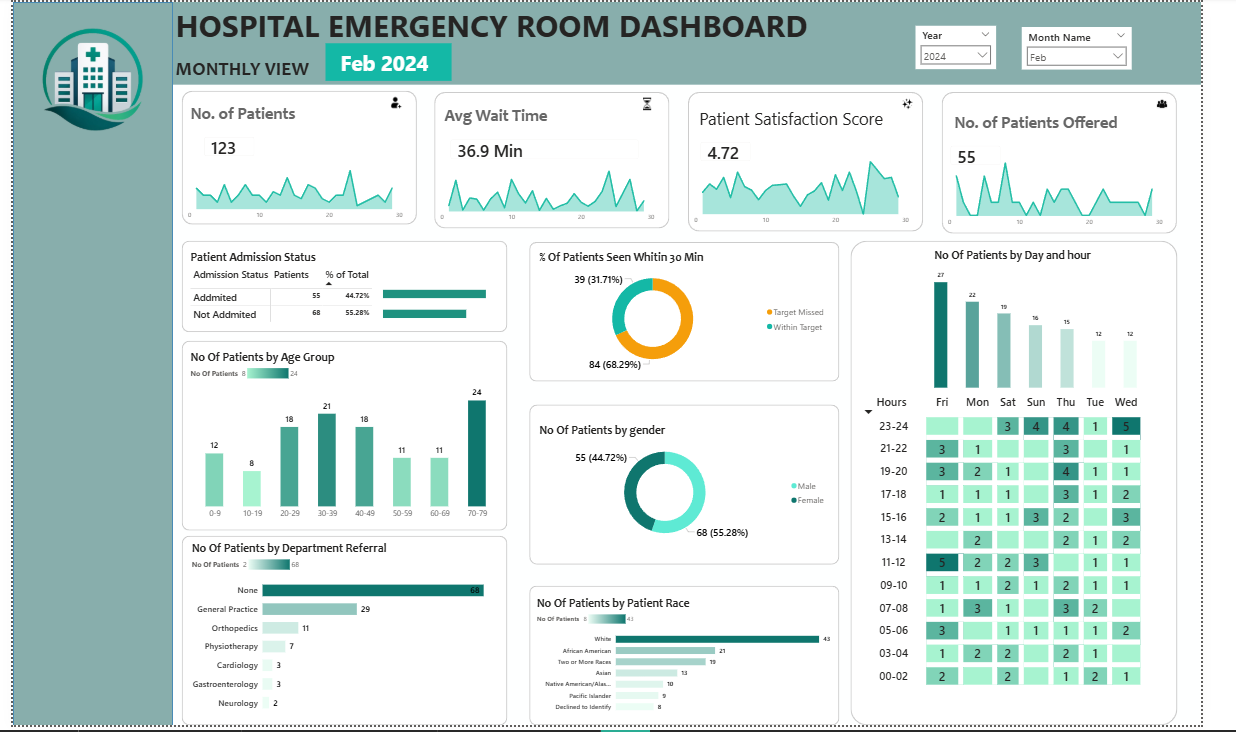

What the dashboard file says about the page in this screenshot:
{"tool":"powerbi","page":{"name":"MONTHLY VIEW","canvas":[2300,1400],"ordinal":0},"visuals":[{"type":"shape","box":[0,0,309.6,1400.5],"z":0},{"type":"shape","box":[310,0,1990,160],"z":1000},{"type":"textbox","box":[310,0,1243.8,87.5],"z":2000},{"type":"textbox","box":[310,101.2,277.5,58.8],"z":3000},{"type":"shape","box":[325.7,172.9,455,259],"z":4000},{"type":"cardVisual","fields":{"Data":["Hospital ER_Data - Hospital ER_Data.No Of Patients"]},"box":[353.3,245,131.7,71.7],"z":5000},{"type":"slicer","fields":{"Values":["Date Table.Year"]},"box":[1747.1,47.1,155.7,84.3],"z":6000},{"type":"slicer","fields":{"Values":["Date Table.Month Name"]},"box":[1952.5,47.5,212.5,82.5],"z":7000},{"type":"textbox","box":[338.3,190,220,55],"z":8000},{"type":"areaChart","fields":{"Category":["Date Table.Date.Variation.Date Hierarchy.Day"],"Y":["Hospital ER_Data - Hospital ER_Data.No Of Patients"]},"box":[325.7,284.3,435.7,145.7],"z":9000},{"type":"cardVisual","fields":{"Data":["Min(Date Table.Month & Year)"]},"box":[605.7,80,244.3,72.9],"z":10000},{"type":"shape","box":[816,173,455,264],"z":11000},{"type":"cardVisual","fields":{"Data":["Hospital ER_Data - Hospital ER_Data.Avg Wait Time"]},"box":[830,250,398,72],"z":12000},{"type":"textbox","box":[830,195.7,220,54.3],"z":13000},{"type":"areaChart","fields":{"Category":["Date Table.Date.Variation.Date Hierarchy.Day"],"Y":["Avg(Hospital ER_Data - Hospital ER_Data.Patient Waittime)"]},"box":[815.7,291.4,434.3,144.3],"z":14000},{"type":"shape","box":[1307,173,455,270],"z":15000},{"type":"cardVisual","fields":{"Data":["Hospital ER_Data - Hospital ER_Data.Satisfaction Score"]},"box":[1313,255,131.7,71.7],"z":16000},{"type":"textbox","box":[1324,198,386,56],"z":17000},{"type":"shape","box":[326.2,462.5,630,177],"z":18000},{"type":"areaChart","fields":{"Category":["Date Table.Date.Variation.Date Hierarchy.Day"],"Y":["Hospital ER_Data - Hospital ER_Data.Satisfaction Score"]},"box":[1307.1,294.3,435.7,145.7],"z":19000},{"type":"shape","box":[1797,173,455,274],"z":20000},{"type":"cardVisual","fields":{"Data":["Hospital ER_Data - Hospital ER_Data.No of Patient Reffered"]},"box":[1797.6,260.7,131.7,71.7],"z":21000},{"type":"textbox","box":[1817.5,207.5,386.2,73.8],"z":22000},{"type":"areaChart","fields":{"Category":["Date Table.Date.Variation.Date Hierarchy.Day"],"Y":["Hospital ER_Data - Hospital ER_Data.No of Patient Reffered"]},"box":[1797.1,298.6,435.7,145.7],"z":23000},{"type":"pivotTable","title":"Patient Admission Status","fields":{"Rows":["Hospital ER_Data - Hospital ER_Data.Admission Status"],"Values":["Hospital ER_Data - Hospital ER_Data.No Of Patients1","Hospital ER_Data - Hospital ER_Data.No Of Patients"]},"box":[338.3,480,593.3,145],"z":24000},{"type":"barChart","fields":{"Category":["Hospital ER_Data - Hospital ER_Data.Admission Status"],"Y":["Hospital ER_Data - Hospital ER_Data.No Of Patients"]},"box":[711.4,525.7,244.3,114.3],"z":25000},{"type":"shape","box":[327.5,655,630,367.5],"z":26000},{"type":"clusteredColumnChart","fields":{"Category":["Hospital ER_Data - Hospital ER_Data.Age Group"],"Y":["Hospital ER_Data - Hospital ER_Data.No Of Patients"]},"box":[337.5,672.5,612.5,337.5],"z":27000},{"type":"shape","box":[326,1033,630,367],"z":28000},{"type":"clusteredBarChart","fields":{"Category":["Hospital ER_Data - Hospital ER_Data.Department Referral"],"Y":["Hospital ER_Data - Hospital ER_Data.No Of Patients"]},"box":[340,1043.3,600,345],"z":29000},{"type":"shape","box":[998.3,463.3,600,270],"z":30000},{"type":"donutChart","title":"% Of Patients Seen Whitin 30 Min","fields":{"Category":["Hospital ER_Data - Hospital ER_Data.Waittime Status"],"Y":["Hospital ER_Data - Hospital ER_Data.No Of Patients"]},"box":[1013.3,480,570,240],"z":31000},{"type":"shape","box":[998,778,600,310],"z":32000},{"type":"donutChart","title":"No Of Patients by gender","fields":{"Y":["Hospital ER_Data - Hospital ER_Data.No Of Patients"],"Category":["Hospital ER_Data - Hospital ER_Data.Patient Gender"]},"box":[1014,816,570,240],"z":33000},{"type":"shape","box":[998,1130,600,270],"z":34000},{"type":"clusteredBarChart","fields":{"Y":["Hospital ER_Data - Hospital ER_Data.No Of Patients"],"Category":["Hospital ER_Data - Hospital ER_Data.Patient Race"]},"box":[1008,1148,580,236],"z":35000},{"type":"shape","box":[1620,462.5,632.5,937.5],"z":36000},{"type":"pivotTable","fields":{"Rows":["Hospital ER_Data - Hospital ER_Data.Waittime Interval"],"Columns":["Date Table.Day Name"],"Values":["Hospital ER_Data - Hospital ER_Data.No Of Patients"]},"box":[1637.5,752.5,600,605],"z":37000},{"type":"columnChart","title":"No Of Patients by Day and hour","fields":{"Category":["Date Table.Day Name"],"Y":["Hospital ER_Data - Hospital ER_Data.No Of Patients"]},"box":[1778,476,404,276],"z":38000},{"type":"image","box":[22.5,0,265,300],"z":39000},{"type":"image","box":[722,182,40,26],"z":40000},{"type":"image","box":[1208,183,40,26],"z":41000},{"type":"image","box":[1710,183,40,26],"z":42000},{"type":"image","box":[2204,185,40,26],"z":43000}]}

Visuals, with their boxes in screenshot pixels (x1, y1, x2, y2), scaled from the page's 2300x1400 canvas onto the 1236x732 screenshot:
shape: <bbox>0, 0, 166, 731</bbox>
shape: <bbox>167, 0, 1235, 84</bbox>
textbox: <bbox>167, 0, 835, 46</bbox>
textbox: <bbox>167, 53, 316, 84</bbox>
shape: <bbox>175, 90, 420, 226</bbox>
cardVisual - Hospital ER_Data - Hospital ER_Data.No Of Patients: <bbox>190, 128, 261, 166</bbox>
slicer - Date Table.Year: <bbox>939, 25, 1023, 69</bbox>
slicer - Date Table.Month Name: <bbox>1049, 25, 1163, 68</bbox>
textbox: <bbox>182, 99, 300, 128</bbox>
areaChart - Date Table.Date.Variation.Date Hierarchy.Day x Hospital ER_Data - Hospital ER_Data.No Of Patients: <bbox>175, 149, 409, 225</bbox>
cardVisual - Min(Date Table.Month & Year): <bbox>325, 42, 457, 80</bbox>
shape: <bbox>439, 90, 683, 228</bbox>
cardVisual - Hospital ER_Data - Hospital ER_Data.Avg Wait Time: <bbox>446, 131, 660, 168</bbox>
textbox: <bbox>446, 102, 564, 131</bbox>
areaChart - Date Table.Date.Variation.Date Hierarchy.Day x Avg(Hospital ER_Data - Hospital ER_Data.Patient Waittime): <bbox>438, 152, 672, 228</bbox>
shape: <bbox>702, 90, 947, 232</bbox>
cardVisual - Hospital ER_Data - Hospital ER_Data.Satisfaction Score: <bbox>706, 133, 776, 171</bbox>
textbox: <bbox>712, 104, 919, 133</bbox>
shape: <bbox>175, 242, 514, 334</bbox>
areaChart - Date Table.Date.Variation.Date Hierarchy.Day x Hospital ER_Data - Hospital ER_Data.Satisfaction Score: <bbox>702, 154, 937, 230</bbox>
shape: <bbox>966, 90, 1210, 234</bbox>
cardVisual - Hospital ER_Data - Hospital ER_Data.No of Patient Reffered: <bbox>966, 136, 1037, 174</bbox>
textbox: <bbox>977, 108, 1184, 147</bbox>
areaChart - Date Table.Date.Variation.Date Hierarchy.Day x Hospital ER_Data - Hospital ER_Data.No of Patient Reffered: <bbox>966, 156, 1200, 232</bbox>
"Patient Admission Status" pivotTable: <bbox>182, 251, 501, 327</bbox>
barChart - Hospital ER_Data - Hospital ER_Data.Admission Status x Hospital ER_Data - Hospital ER_Data.No Of Patients: <bbox>382, 275, 514, 335</bbox>
shape: <bbox>176, 342, 515, 535</bbox>
clusteredColumnChart - Hospital ER_Data - Hospital ER_Data.Age Group x Hospital ER_Data - Hospital ER_Data.No Of Patients: <bbox>181, 352, 511, 528</bbox>
shape: <bbox>175, 540, 514, 731</bbox>
clusteredBarChart - Hospital ER_Data - Hospital ER_Data.Department Referral x Hospital ER_Data - Hospital ER_Data.No Of Patients: <bbox>183, 545, 505, 726</bbox>
shape: <bbox>536, 242, 859, 383</bbox>
"% Of Patients Seen Whitin 30 Min" donutChart: <bbox>545, 251, 851, 376</bbox>
shape: <bbox>536, 407, 859, 569</bbox>
"No Of Patients by gender" donutChart: <bbox>545, 427, 851, 552</bbox>
shape: <bbox>536, 591, 859, 731</bbox>
clusteredBarChart - Hospital ER_Data - Hospital ER_Data.No Of Patients x Hospital ER_Data - Hospital ER_Data.Patient Race: <bbox>542, 600, 853, 724</bbox>
shape: <bbox>871, 242, 1210, 731</bbox>
pivotTable - Hospital ER_Data - Hospital ER_Data.Waittime Interval x Date Table.Day Name: <bbox>880, 393, 1202, 710</bbox>
"No Of Patients by Day and hour" columnChart: <bbox>955, 249, 1173, 393</bbox>
image: <bbox>12, 0, 154, 157</bbox>
image: <bbox>388, 95, 409, 109</bbox>
image: <bbox>649, 96, 671, 109</bbox>
image: <bbox>919, 96, 940, 109</bbox>
image: <bbox>1184, 97, 1206, 110</bbox>
